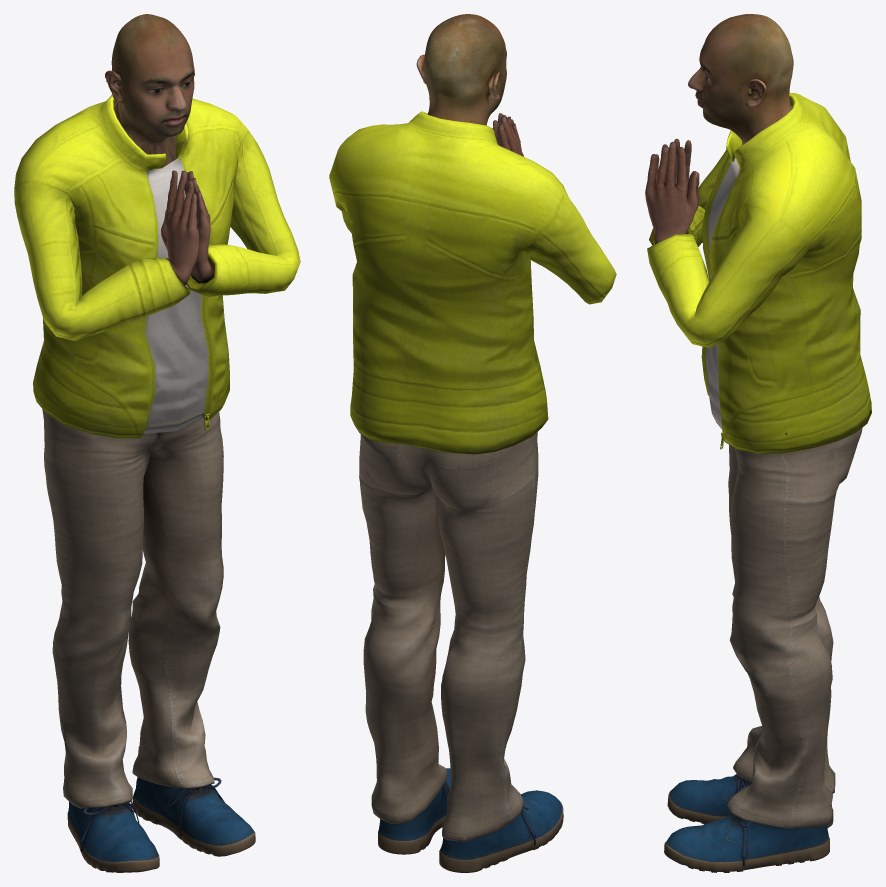
The model's file is namaste.obj.
The picture shows the model from 3 angles, left to right: view 1: azimuth 30°, elevation 25°; view 2: azimuth 150°, elevation 25°; view 3: azimuth 270°, elevation 25°; orthographic projection.
Visible parts, largest first — view 1: full_body_full_bodymesh; view 2: full_body_full_bodymesh; view 3: full_body_full_bodymesh.
Part boxes in pixels (<box>): full_body_full_bodymesh: <box>14,14,300,872</box>; full_body_full_bodymesh: <box>329,14,616,872</box>; full_body_full_bodymesh: <box>645,14,871,872</box>.
Bounding box in the file's own units: 0.5728 × 1.78 × 0.4462.
Materials: 2 (2 with a texture image).
